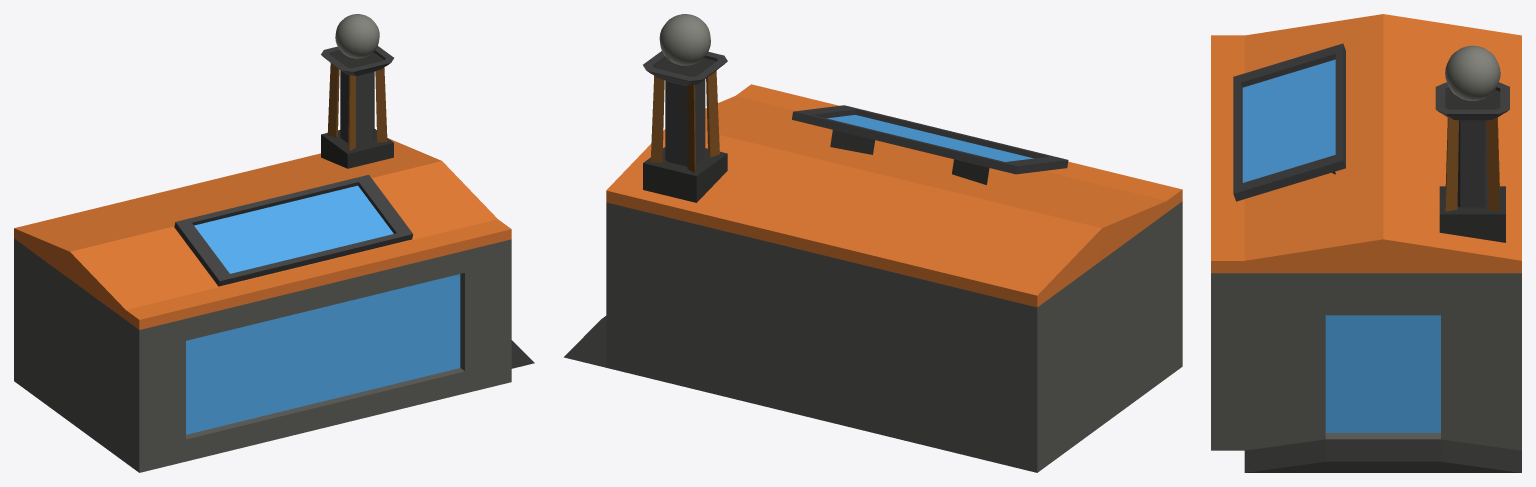
File: RadioBuilding.fbx
The picture shows the model from 3 angles, left to right: view 1: azimuth 30°, elevation 25°; view 2: azimuth 150°, elevation 25°; view 3: azimuth 270°, elevation 25°; orthographic projection. The views are drawn at different scales.
Visible parts, largest first — view 1: RadioBuilding; view 2: RadioBuilding; view 3: RadioBuilding.
Boxes of the visible parts, bbox=[...] form: RadioBuilding: bbox=[14, 14, 534, 472]; RadioBuilding: bbox=[564, 14, 1182, 472]; RadioBuilding: bbox=[1211, 14, 1521, 472].
Size of the model in its own units: 4.23 by 2.24 by 2.97.
Materials: 1 (1 with a texture image).
